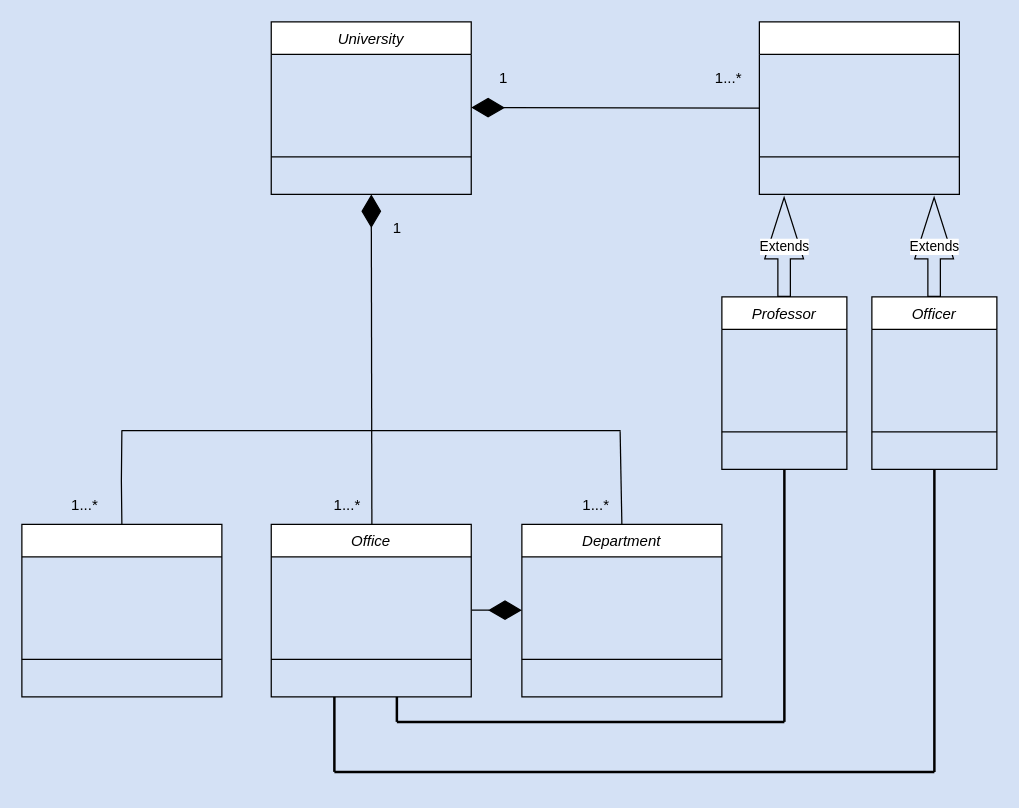
Some shapes in this 1019 by 808 pixel diagram are drawn without their labels. Here are the shapes that lost their labels. From the top down, the box of each, then its label:
(758, 21, 959, 194): Employee
(21, 523, 222, 697): Classroom
